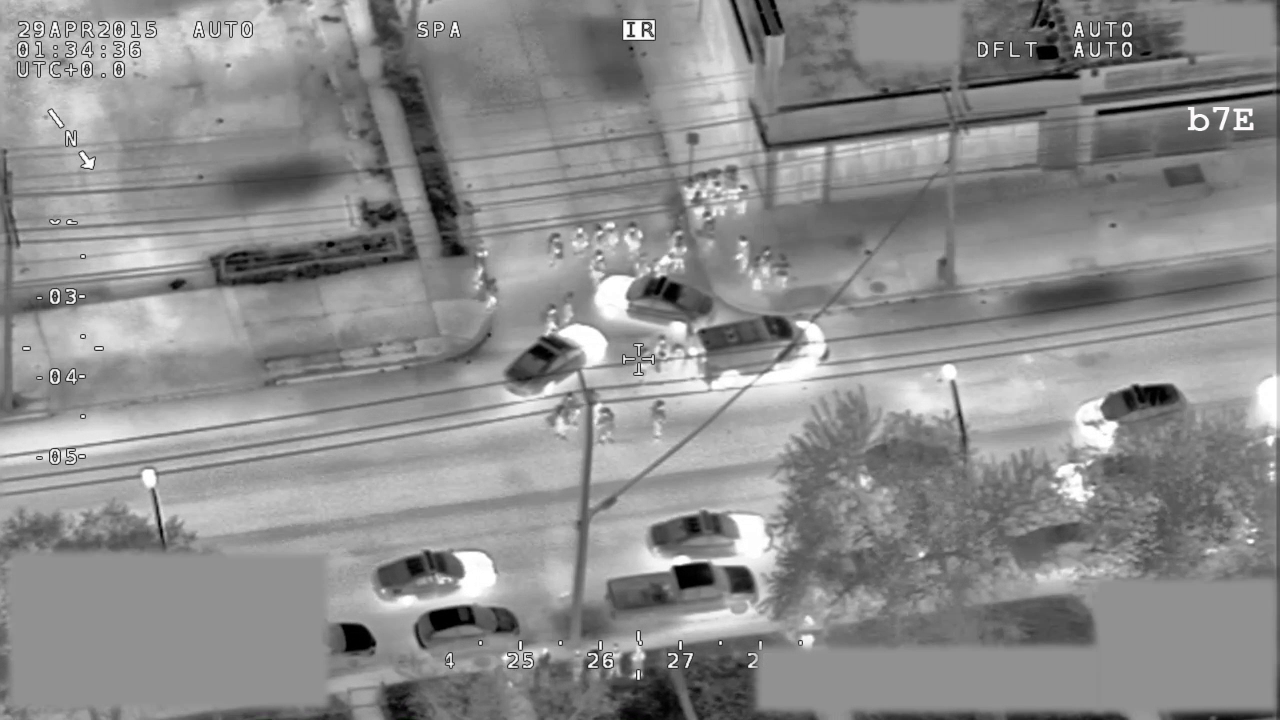vehicle: (685, 313, 829, 387), (603, 558, 763, 622), (1051, 446, 1199, 509), (504, 323, 610, 403), (368, 547, 497, 610), (590, 269, 715, 334), (1009, 517, 1143, 575), (1071, 382, 1193, 445), (643, 508, 773, 564), (410, 604, 522, 657), (863, 437, 961, 489)
